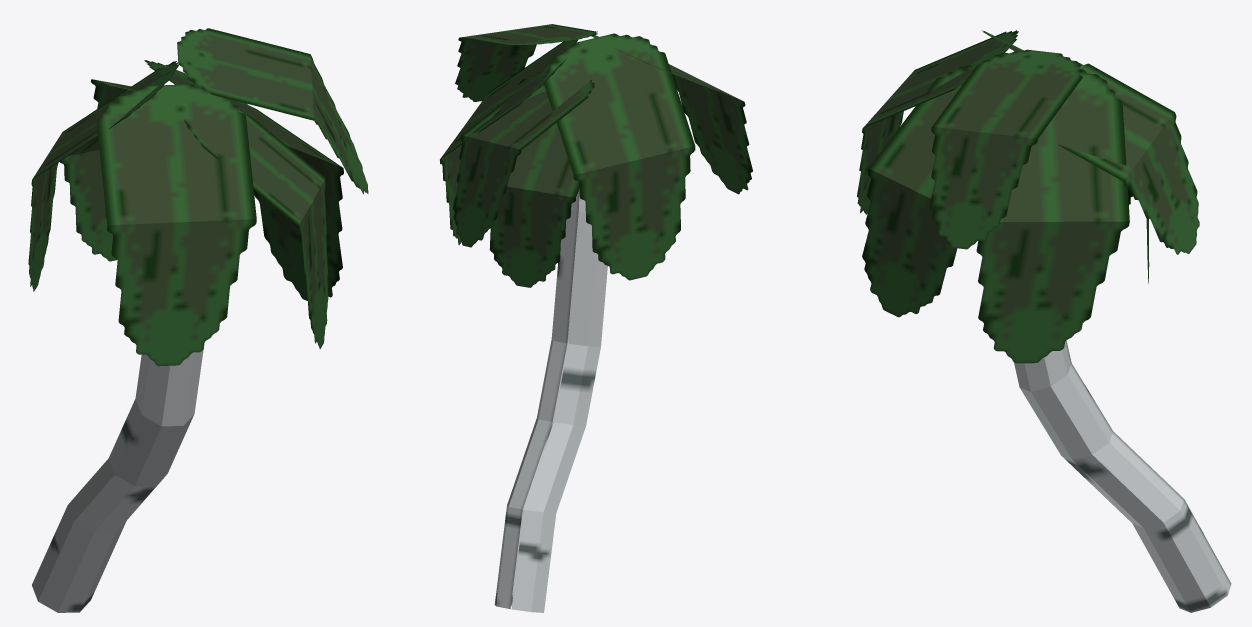
Rendered from Coqueiro2.fbx.
3 renders of one model, left to right at view 1: azimuth 30°, elevation 25°; view 2: azimuth 150°, elevation 25°; view 3: azimuth 270°, elevation 25°, orthographic. The views are drawn at different scales.
Visible parts, largest first — view 1: Coqueiro2; view 2: Coqueiro2; view 3: Coqueiro2.
Part boxes in pixels (<box>): Coqueiro2: <box>28,28,368,612</box>; Coqueiro2: <box>440,24,752,612</box>; Coqueiro2: <box>857,30,1231,612</box>.
Bounding box in the file's own units: 700 × 729 × 1105.
